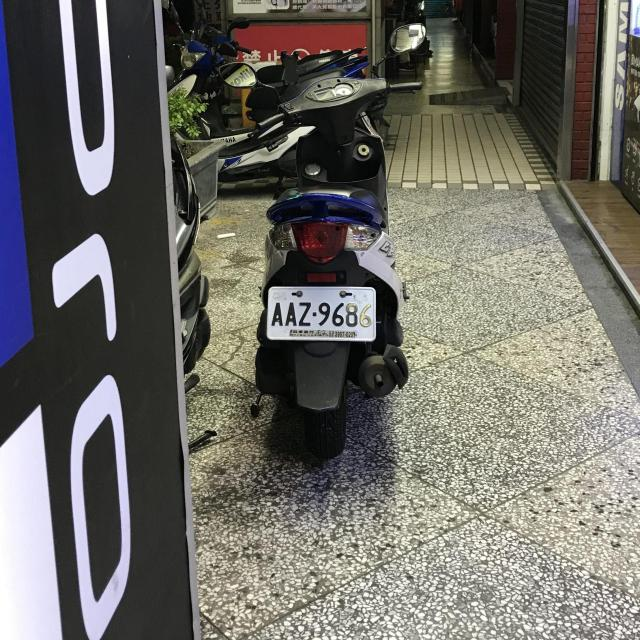W: (264, 286, 377, 344)
